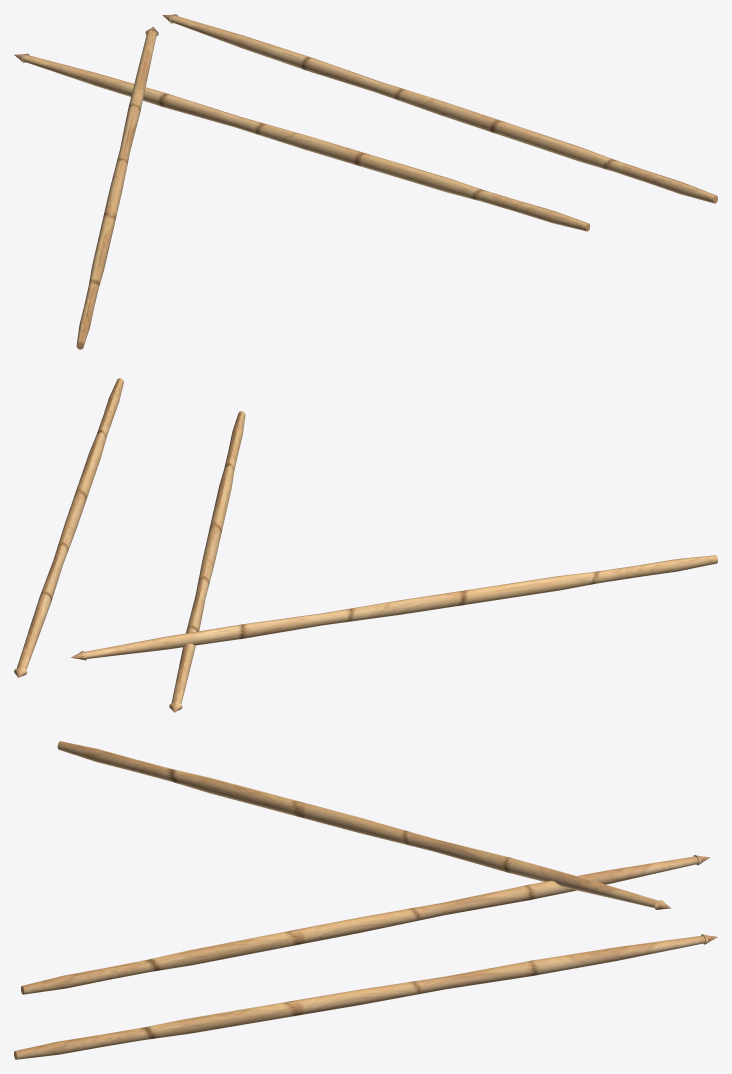
The model's file is crossbowAmmo.fbx.
The picture shows the model from 3 angles, top to bottom: view 1: azimuth 30°, elevation 25°; view 2: azimuth 150°, elevation 25°; view 3: azimuth 270°, elevation 25°; orthographic projection. The views are drawn at different scales.
Parts seen in each view (by area): view 1: Cylinder.004, Cylinder.005, Cylinder.003; view 2: Cylinder.003, Cylinder.005, Cylinder.004; view 3: Cylinder.005, Cylinder.004, Cylinder.003.
Part boxes in pixels (x1,y1,x2,y2): Cylinder.004: [14, 53, 590, 231]; Cylinder.005: [162, 14, 717, 203]; Cylinder.003: [76, 27, 158, 349]; Cylinder.003: [71, 555, 717, 660]; Cylinder.005: [14, 378, 123, 677]; Cylinder.004: [169, 411, 245, 712]; Cylinder.005: [14, 934, 717, 1059]; Cylinder.004: [21, 855, 710, 994]; Cylinder.003: [57, 741, 670, 909].
Size of the model in its own units: 127 by 6.09 by 117.
Materials: 1 (1 with a texture image).
